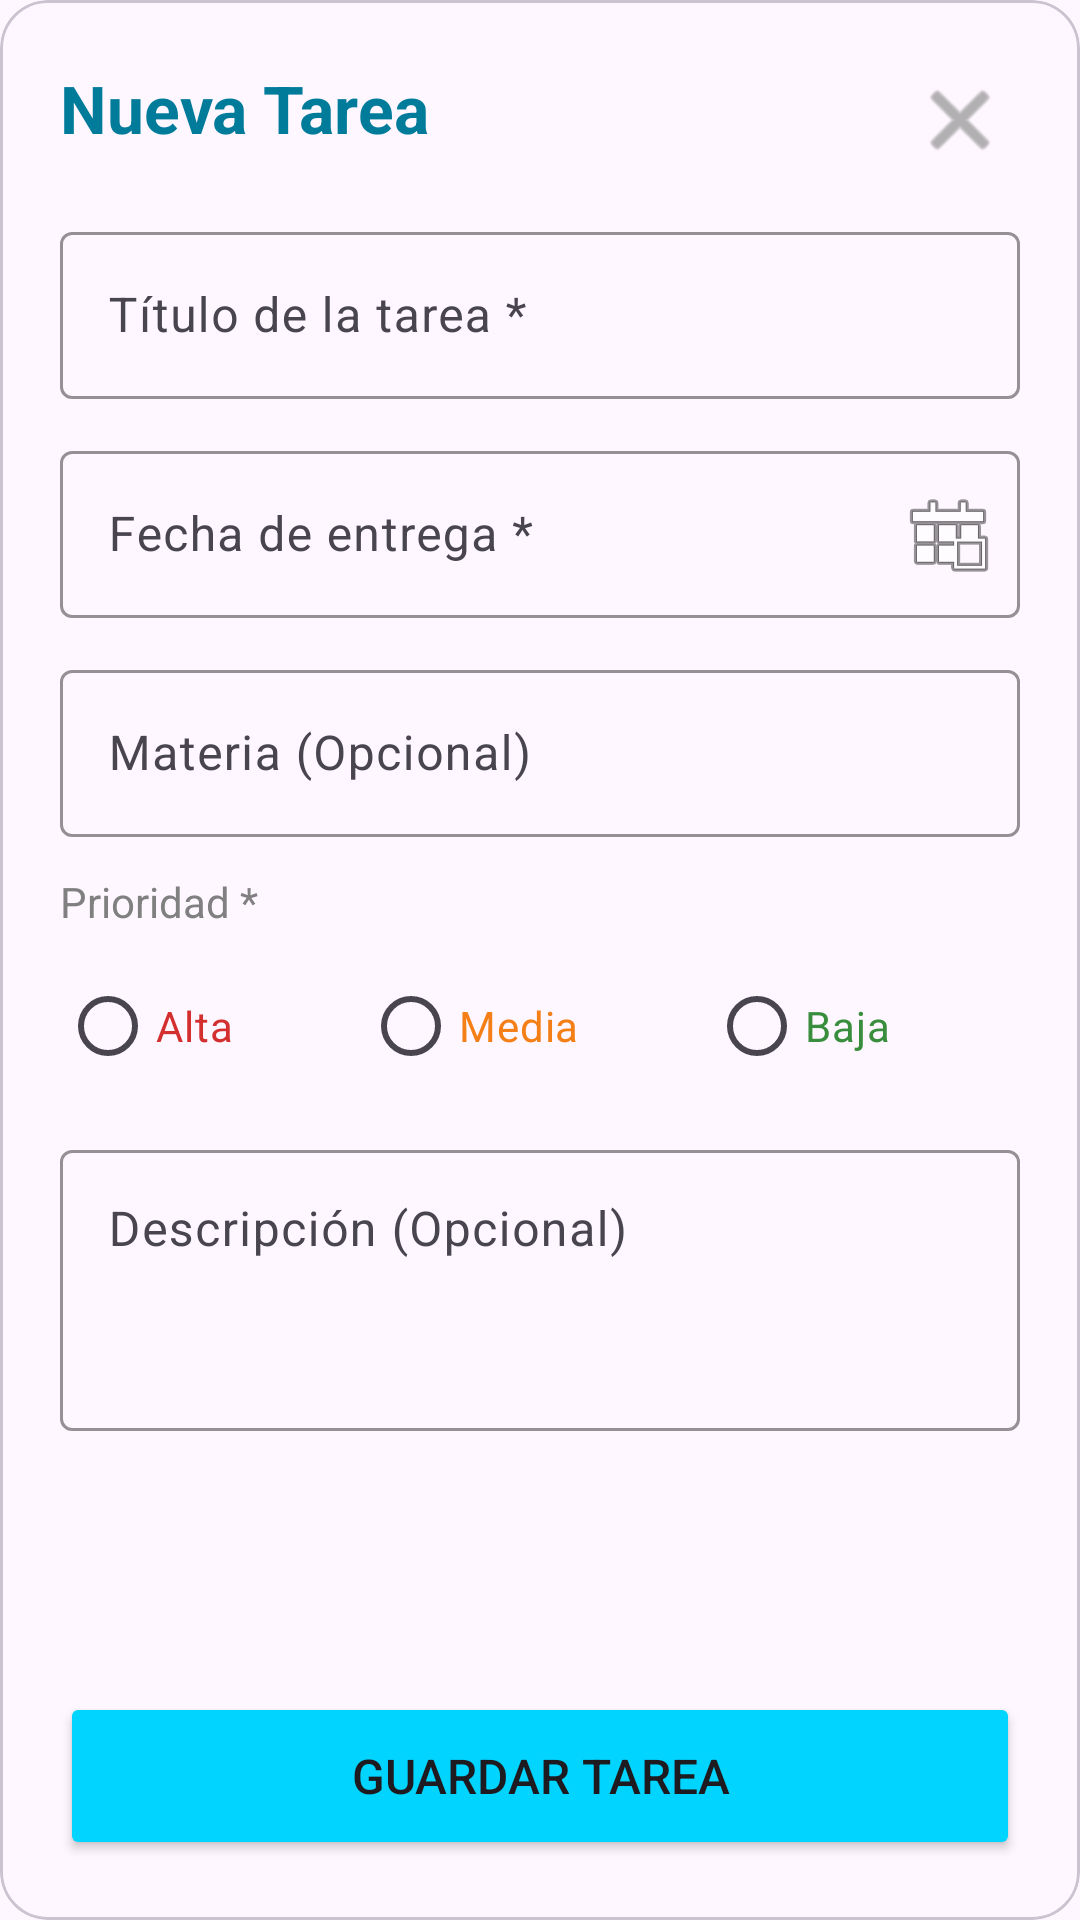

Screen size 1080*1920. Icon name, then its center in pixels as [x,y]:
close clear cancel: [960,120]
